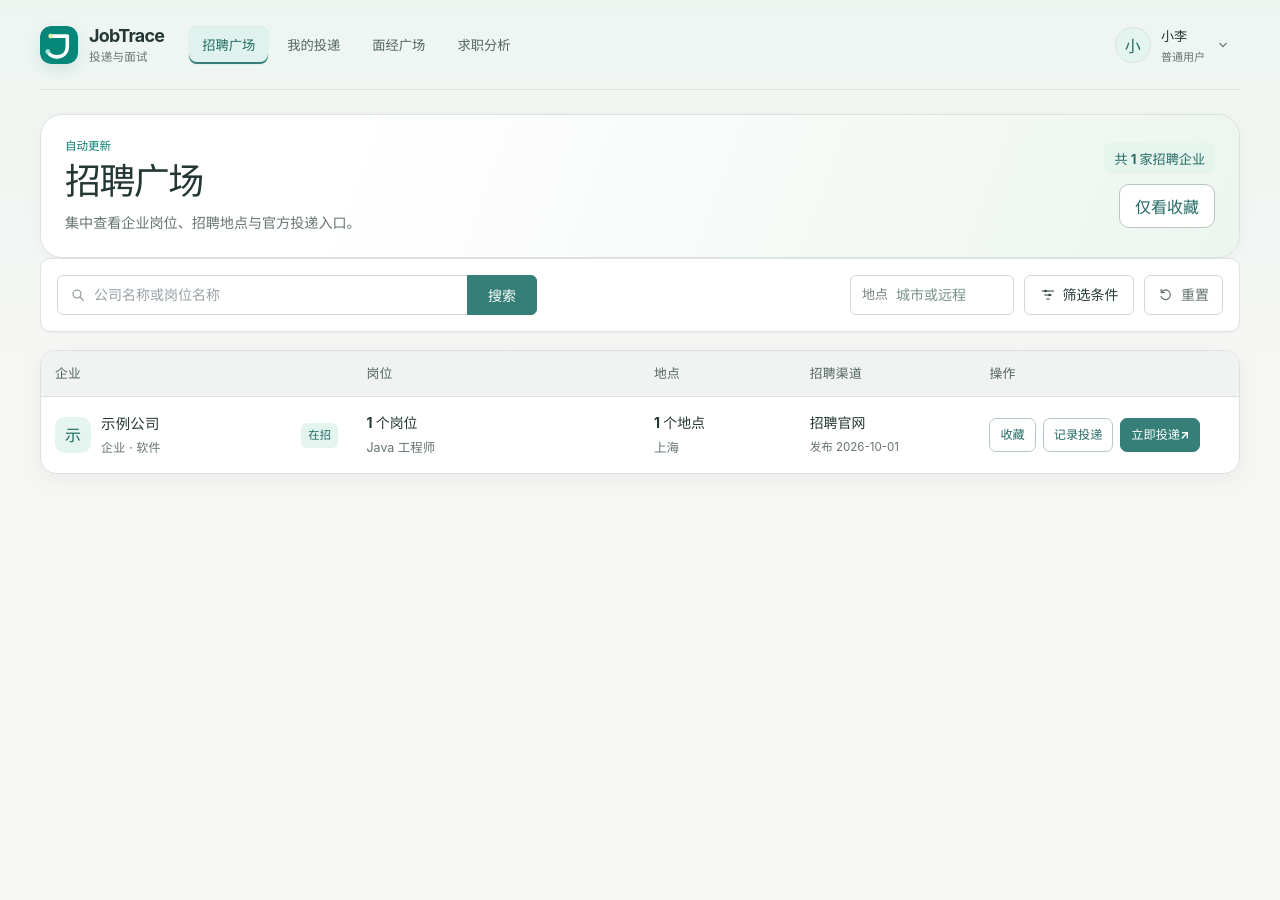
Test case: App authentication › opens the legacy recruitment home and keeps the four primary modules
Check: the heading "招聘广场" is shown, box top-left (65, 159), bottom-right (202, 203)
Check: the text "示例公司" is shown, box top-left (101, 413), bottom-right (161, 435)
Click the link "我的投递" at [314, 45], box top-left (287, 37), bottom-right (340, 53)
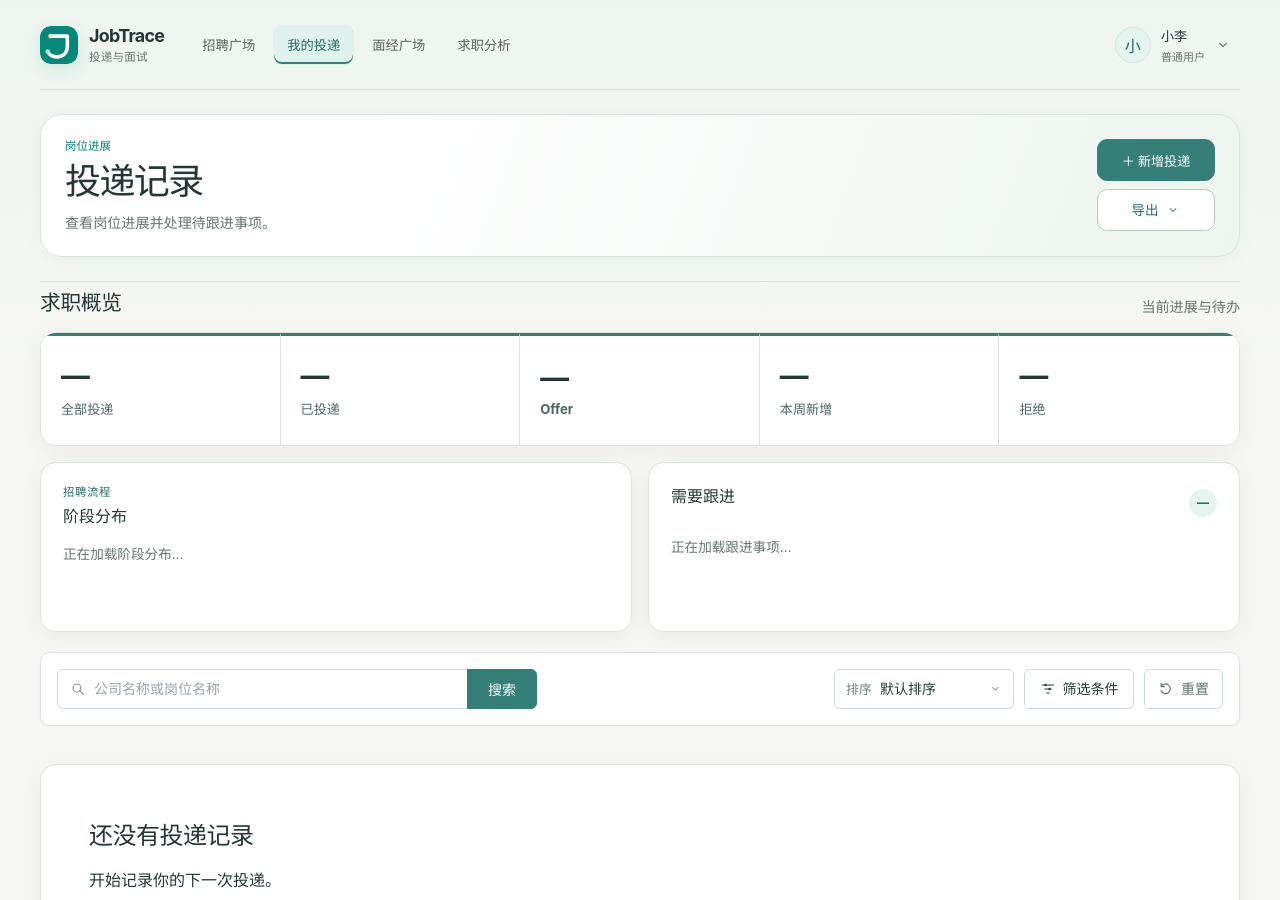
Check: the heading "投递记录" is shown, box top-left (65, 159), bottom-right (202, 203)
